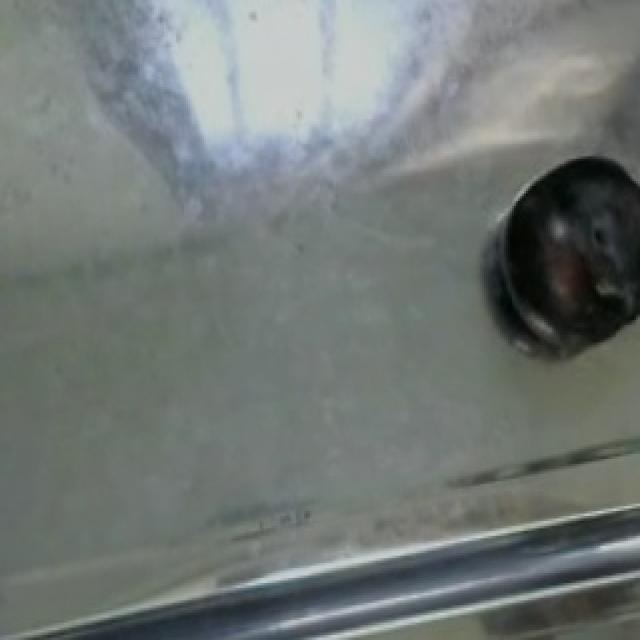Fruit: (490, 139, 640, 362)
